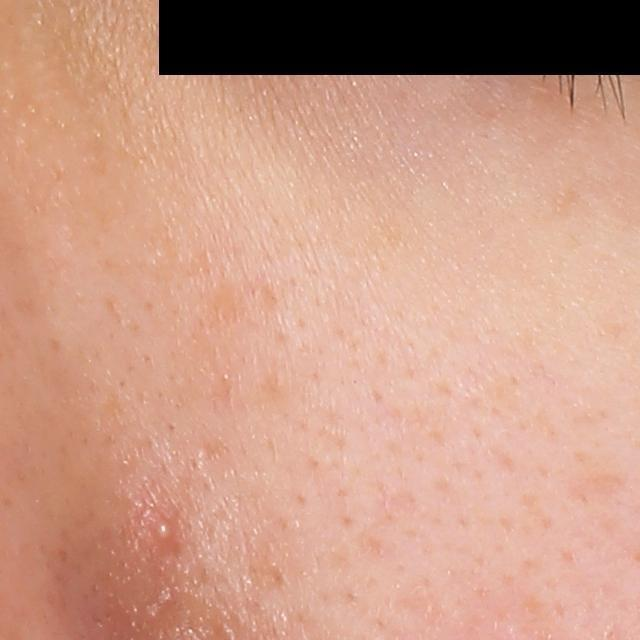pustule: (154, 516, 179, 549)
